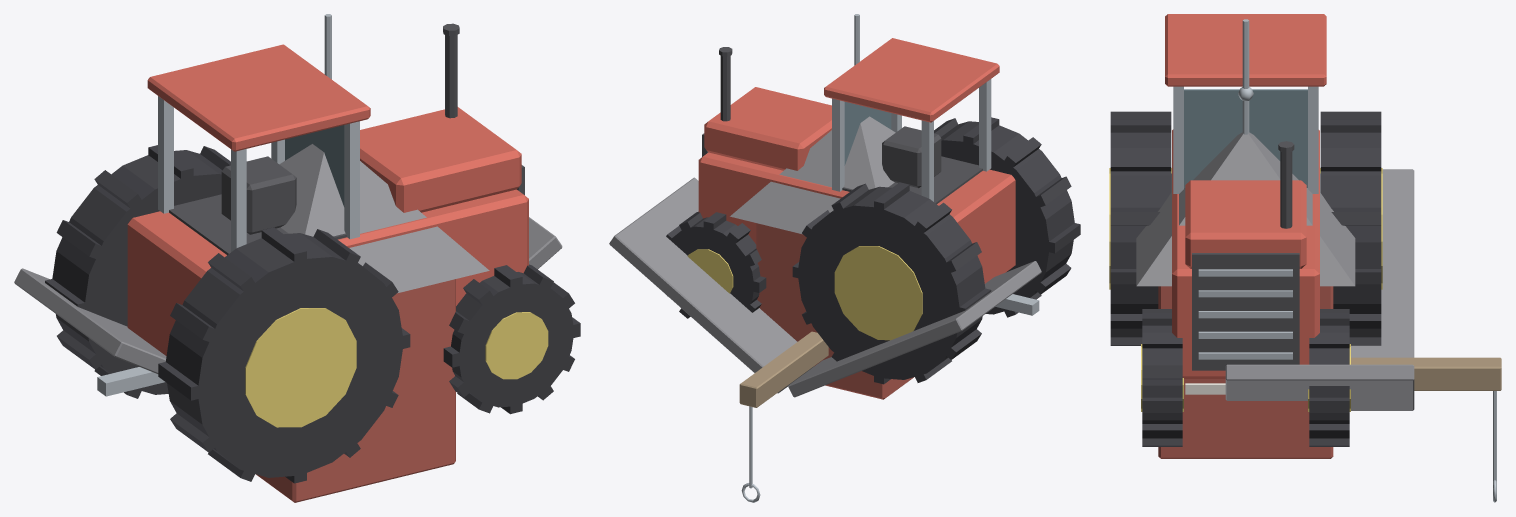
File: farm_bits.glb
3 views of the same model, side by side, from view 1: azimuth 30°, elevation 25°; view 2: azimuth 150°, elevation 25°; view 3: azimuth 270°, elevation 25° (orthographic). The views are drawn at different scales.
Visible parts, largest first — view 1: fp_tractor_mesh, fp_cupola_mesh, fp_hood_mesh; view 2: fp_tractor_mesh, fp_hood_mesh, fp_cupola_mesh; view 3: fp_tractor_mesh, fp_cupola_mesh, fp_hood_mesh.
Part boxes in pixels (x1,y1,x2,y2): fp_tractor_mesh: (45,23,580,483); fp_cupola_mesh: (256,14,489,502); fp_hood_mesh: (14,217,562,373); fp_tractor_mesh: (666,38,1080,384); fp_hood_mesh: (609,177,1041,502); fp_cupola_mesh: (730,14,913,399); fp_tractor_mesh: (1109,14,1382,446); fp_cupola_mesh: (1136,19,1355,458); fp_hood_mesh: (1225,169,1501,502).
Size of the model in its own units: 3.58 by 3.94 by 2.91.
